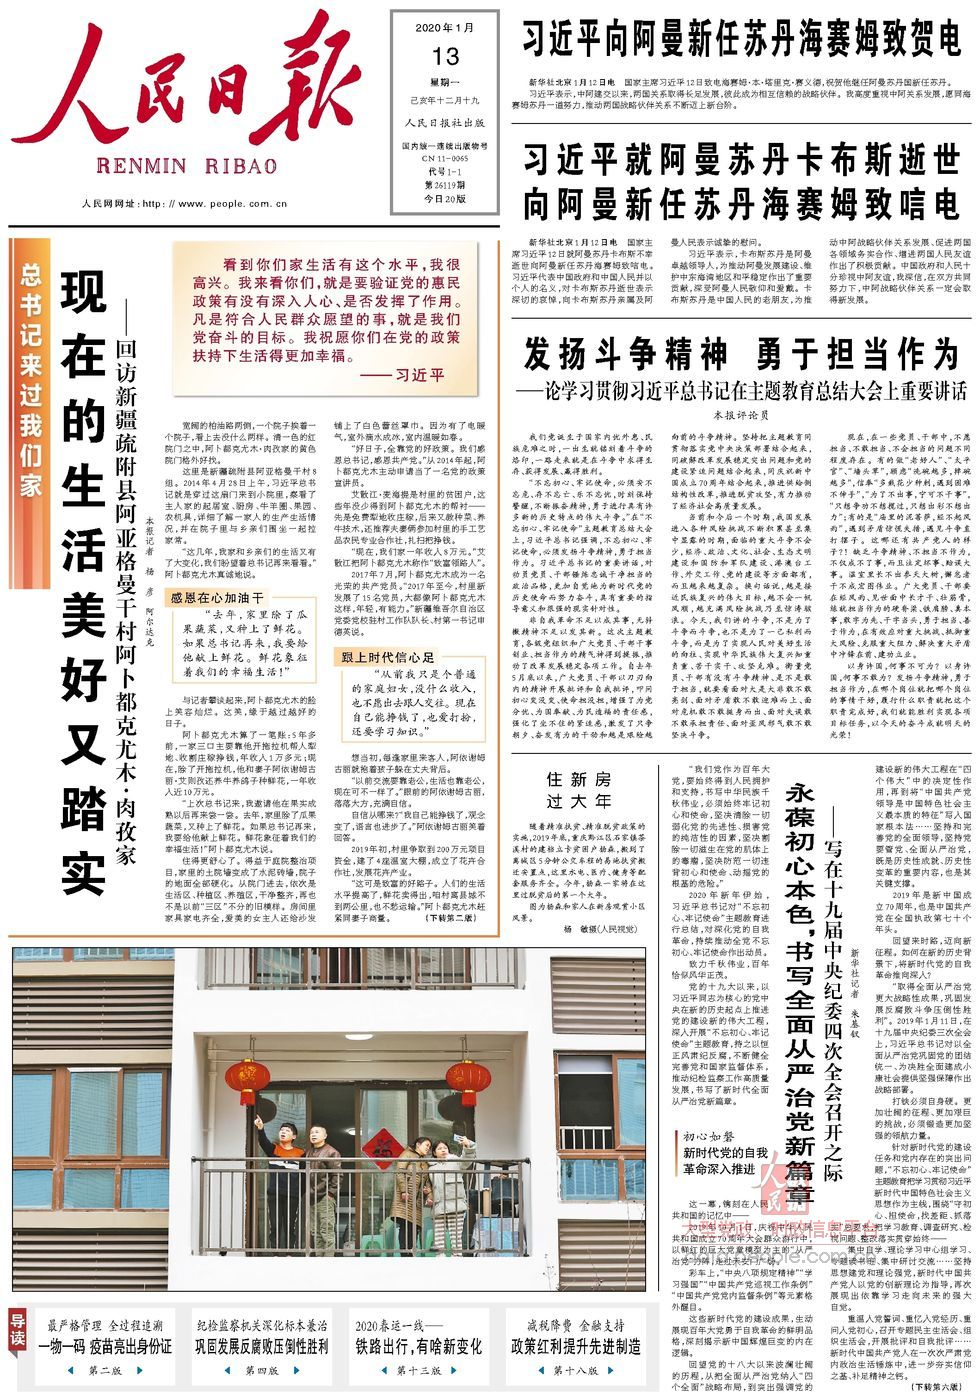pic: (9, 941, 652, 1297)
